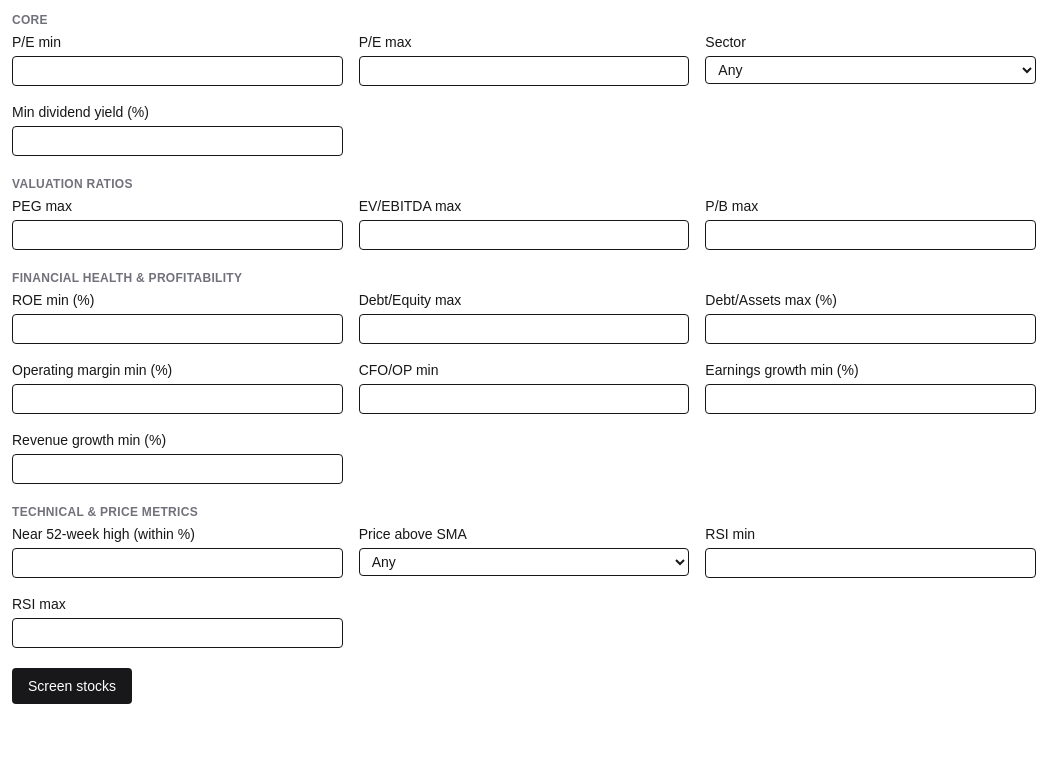
Test: FilterForm › shows a validation error and does not submit when P/E min exceeds P/E max
Type "30" into the number field labelled "P/E min". click: (177, 71)
box: [12,56,343,86]
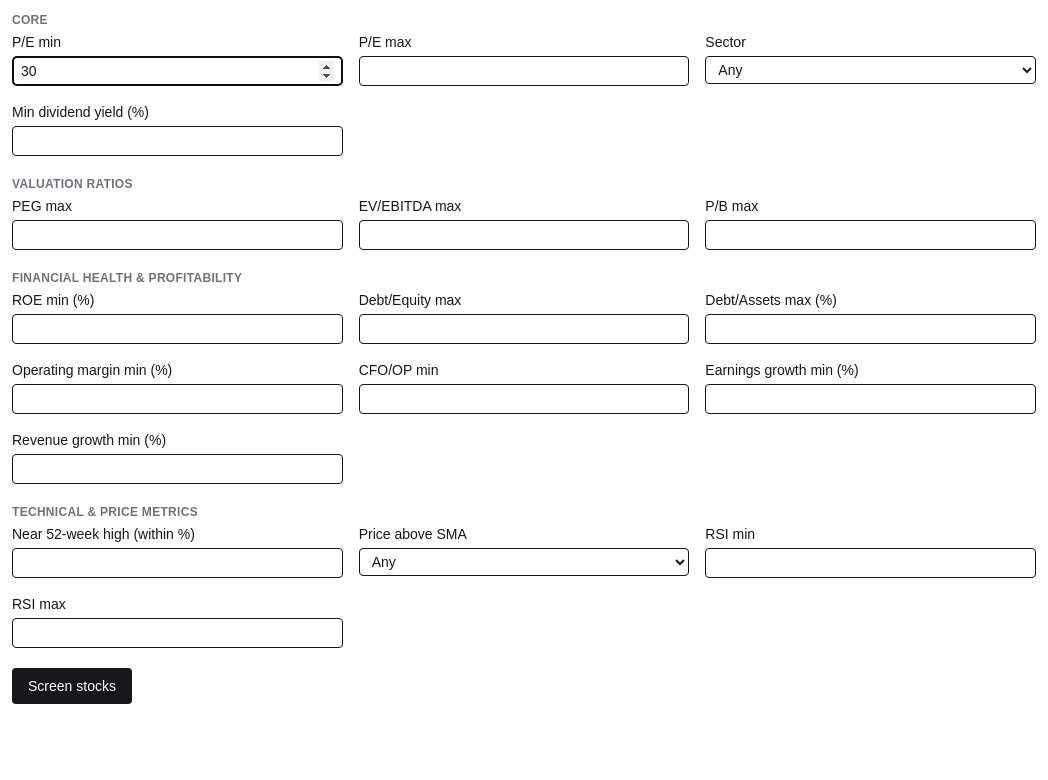
Type "10" into the number field labelled "P/E max". click: (524, 71)
box: [359,56,689,86]
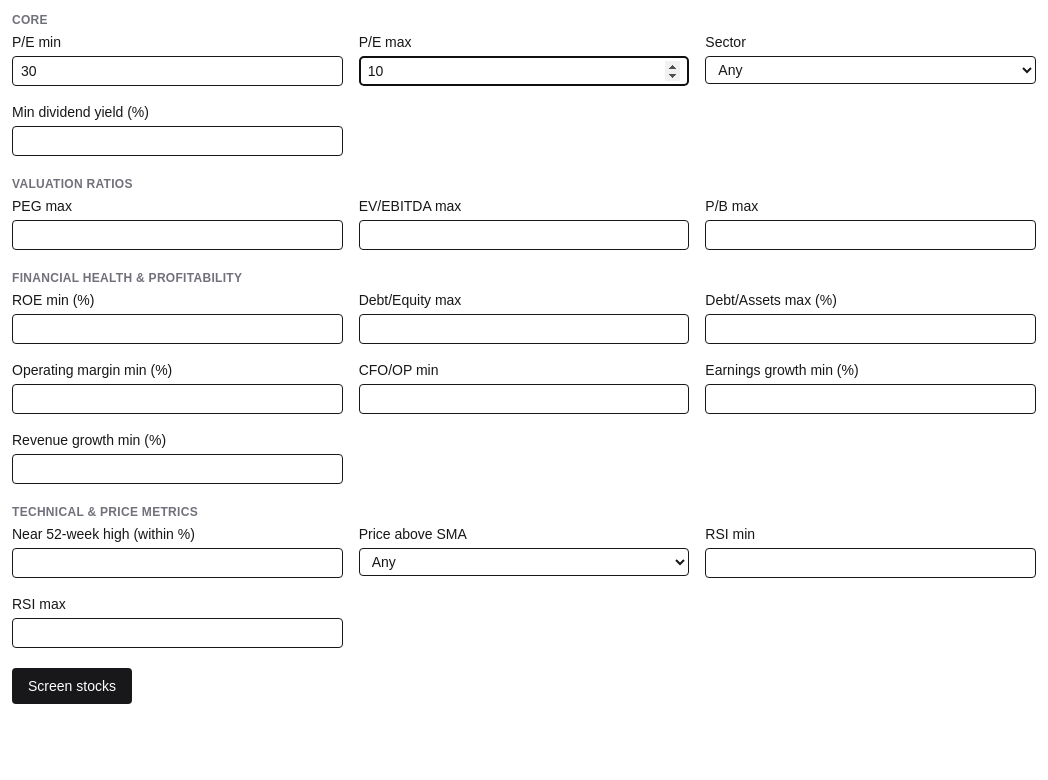
Click the button "Screen stocks". click: (72, 686)
box: [12,668,132,704]
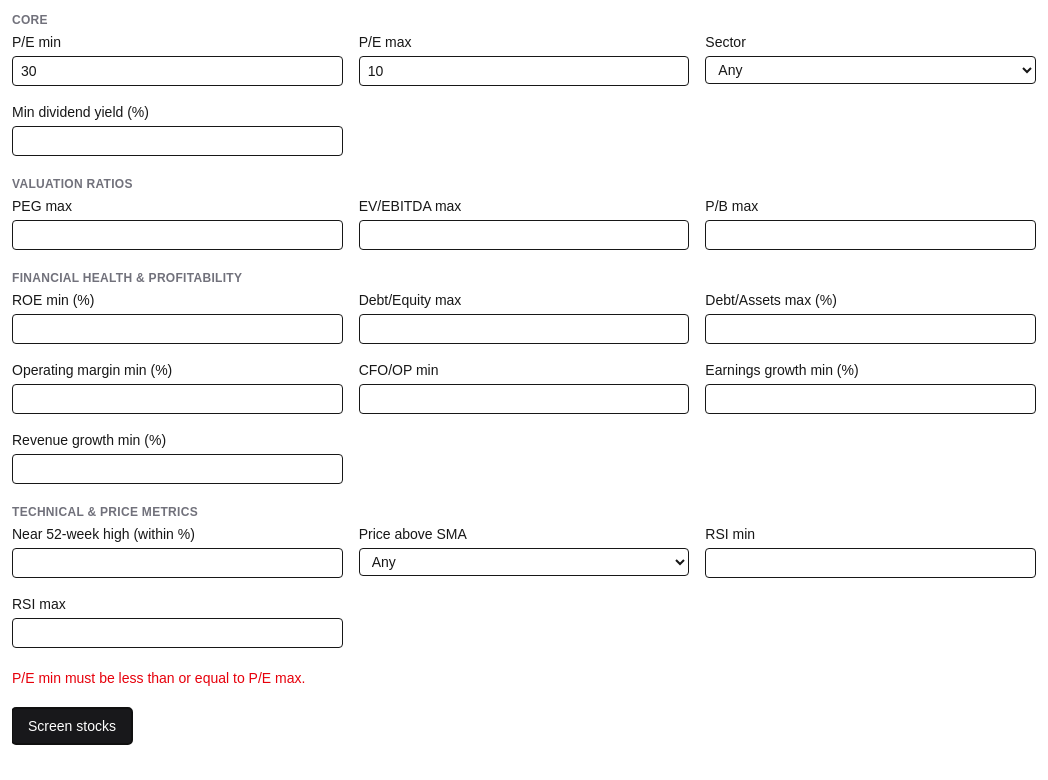
Now the message shows "P/E min must be", box [12,670,305,686]
